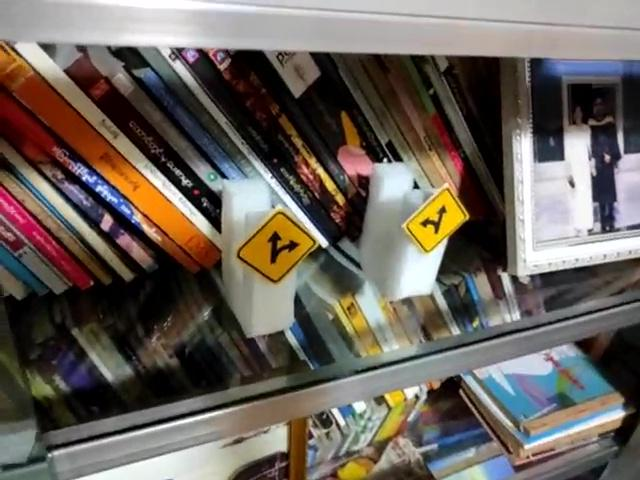Straight Or Left Sign: (405, 183, 469, 255)
Straight Or Right Sign: (234, 212, 318, 287)
